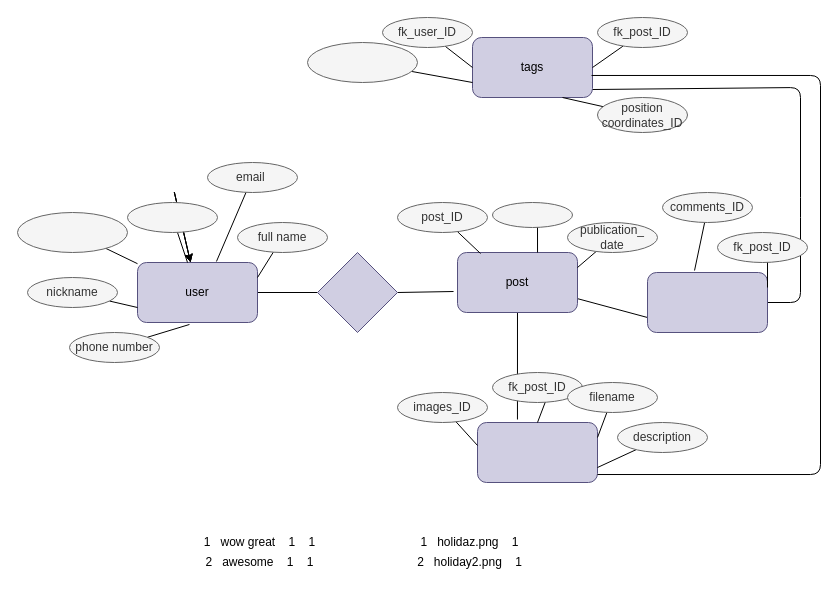
The diagram is 839 pixels wide and 590 high, and some of its shapes have lost their labels. The centre of each missing label's shape, as x and y in pixels:
comments: [707,302]
creates: [357,292]
images: [537,452]
password: [172,217]
tags_ID: [362,62]
text: [532,215]
user_ID: [72,232]
